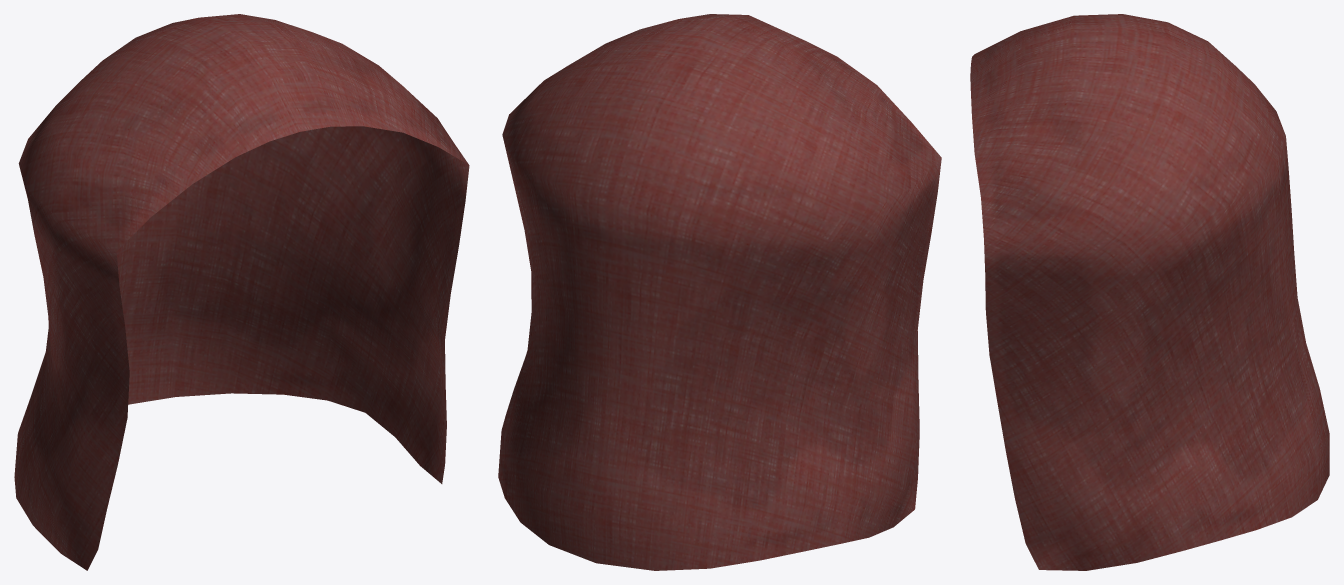
File: clo_easterlingwarriors01_helmet.fbx
3 views of the same model, side by side, from view 1: azimuth 30°, elevation 25°; view 2: azimuth 150°, elevation 25°; view 3: azimuth 270°, elevation 25° (orthographic). The views are drawn at different scales.
Visible parts, largest first — view 1: clo_easterlingwarriors01_helmet; view 2: clo_easterlingwarriors01_helmet; view 3: clo_easterlingwarriors01_helmet.
Boxes of the visible parts, bbox=[...] form: clo_easterlingwarriors01_helmet: bbox=[14, 14, 469, 570]; clo_easterlingwarriors01_helmet: bbox=[498, 14, 941, 570]; clo_easterlingwarriors01_helmet: bbox=[970, 14, 1329, 570].
Size of the model in its own units: 0.2944 by 0.2449 by 0.3449.
1 material, 1 textured.
